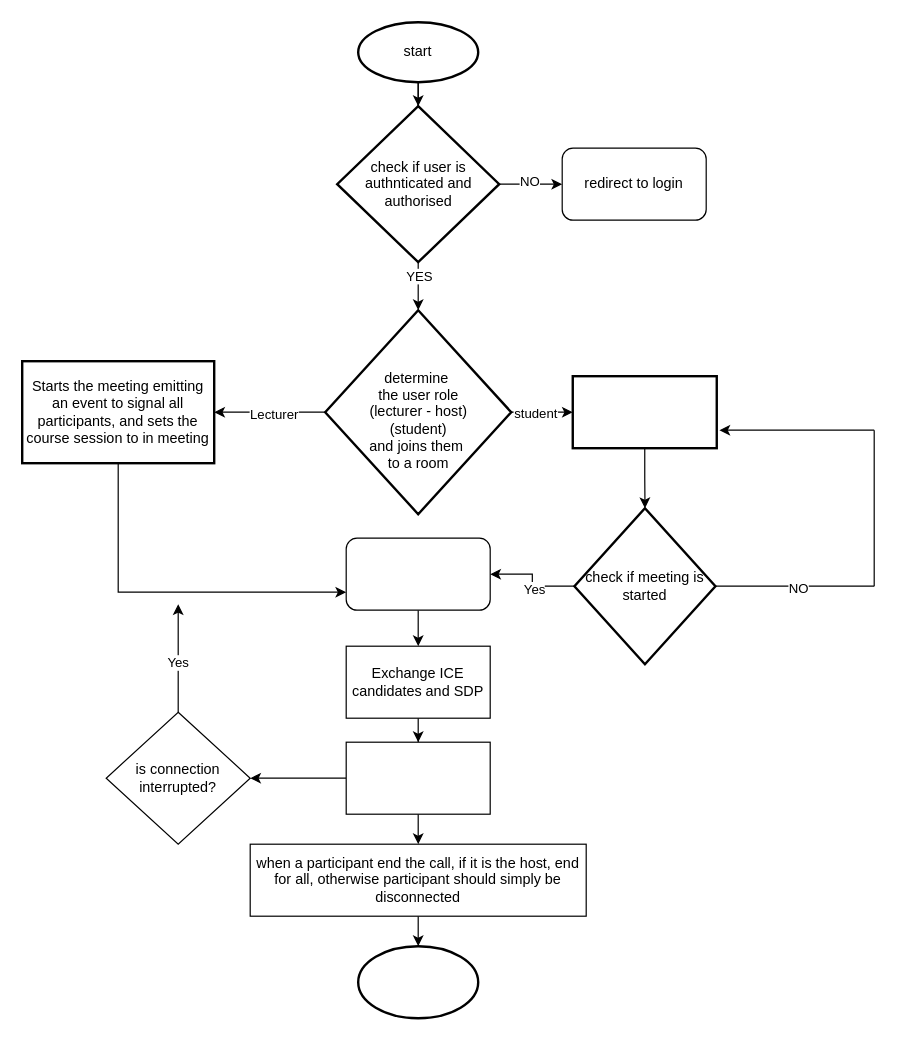
Image size: 905x1039. Some labels were removed from this diagram. The centre of each missing label's shape, as x and y in pixels:
End: point (417, 981)
Get all participants info and store it, for attendance tracking: point (417, 777)
Setup WebRTC Peer Connection.: point (417, 573)
waits for host to start meeting: point (644, 411)
